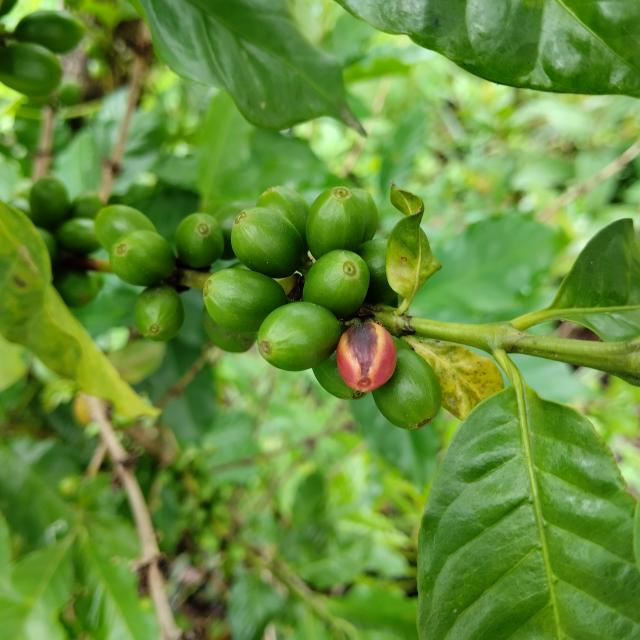green: (258, 302, 343, 371), (372, 349, 442, 430), (203, 268, 286, 332), (231, 206, 304, 278), (303, 249, 370, 319), (306, 186, 365, 259), (109, 230, 175, 286), (256, 185, 310, 246), (94, 204, 156, 251), (134, 284, 184, 341), (175, 212, 224, 268), (312, 351, 366, 400), (202, 307, 256, 353)
red: (337, 322, 397, 393)
